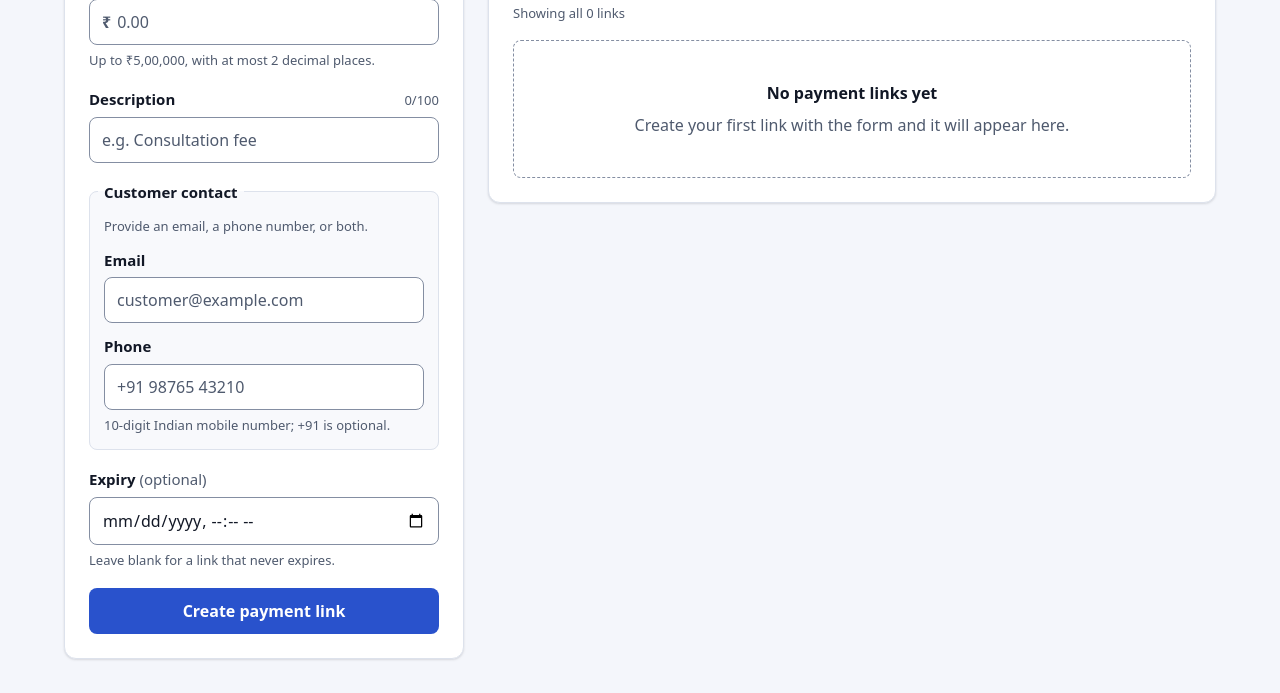
Test: Create payment link form › shows inline, accessible errors on an empty submit and focuses the first invalid field
(page scrolled)
Click the button "Create payment link": click(264, 611) x1=89 y1=588 x2=439 y2=634
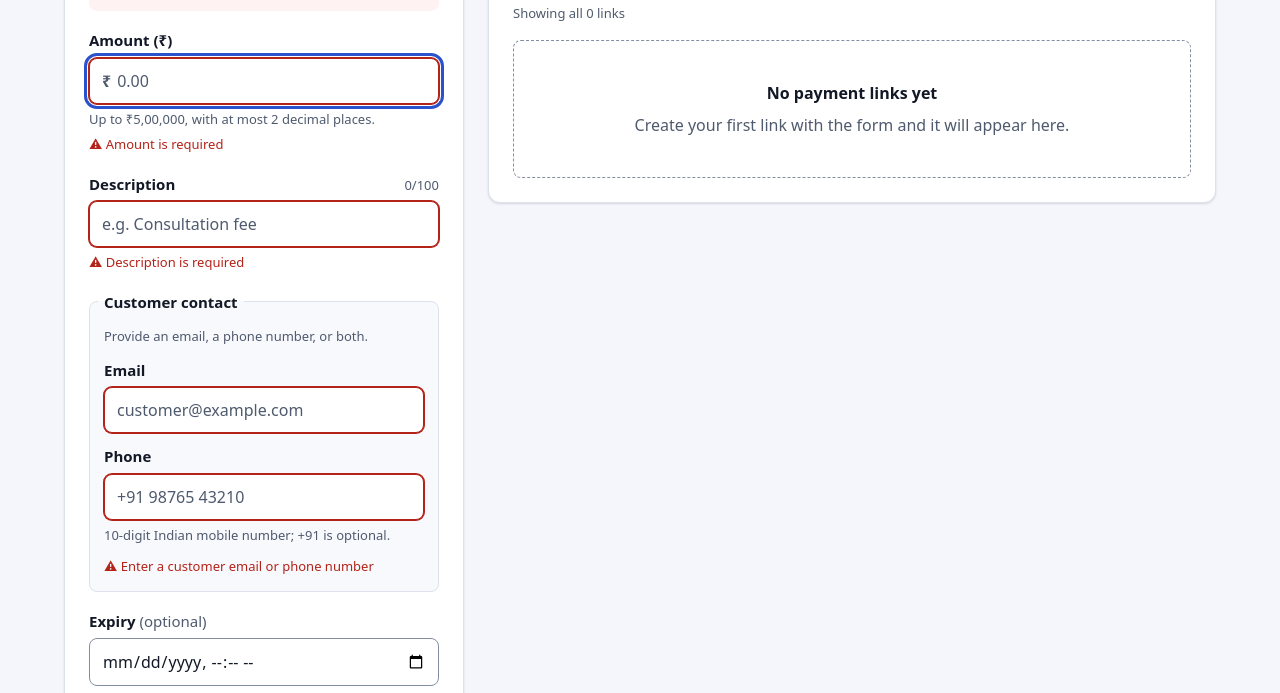
Result: the text "Enter a customer email or phone number" is shown once at x1=121 y1=557 x2=374 y2=575
